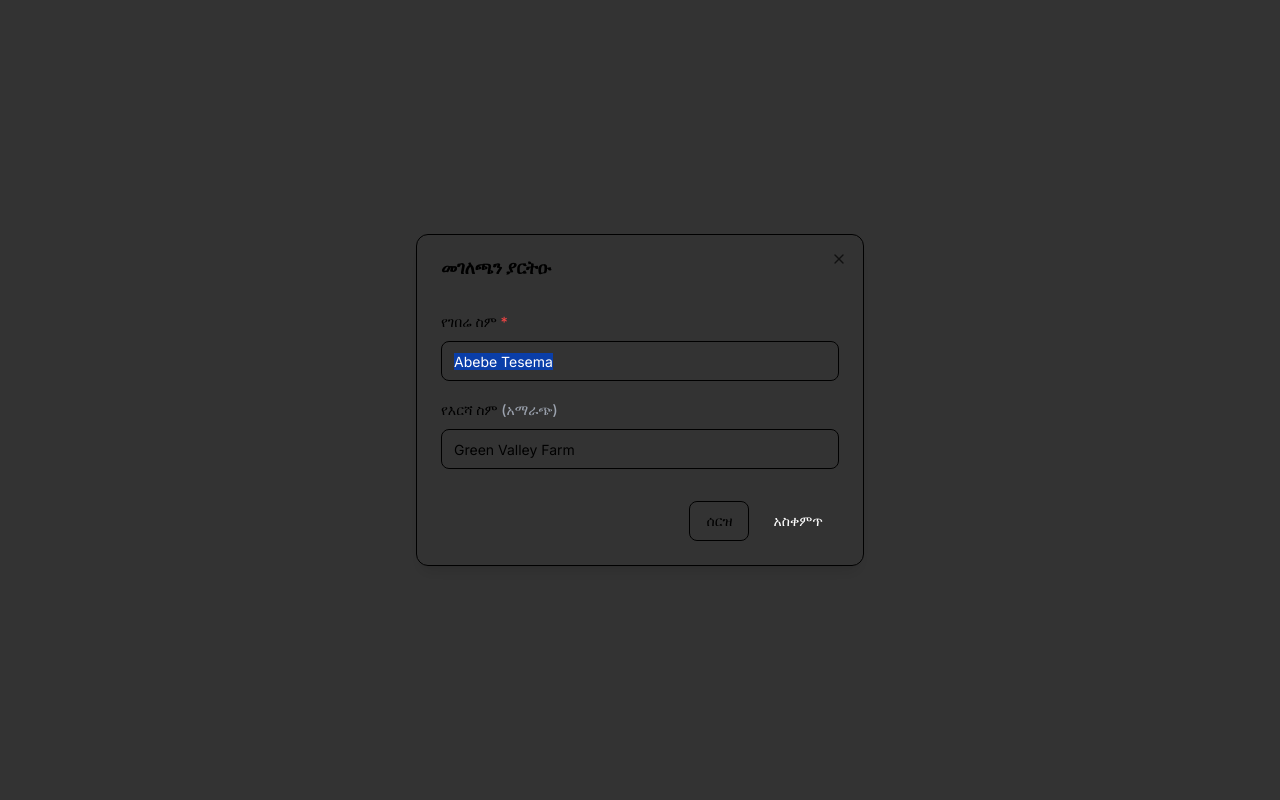
Scenario: EditProfileModal › validates empty farmer name
The width and height of the screenshot is (1280, 800).
# Clear farmer name
Clear the field with placeholder "ስም እና የአባት ስም" at (640, 361), box [441,341,839,381]
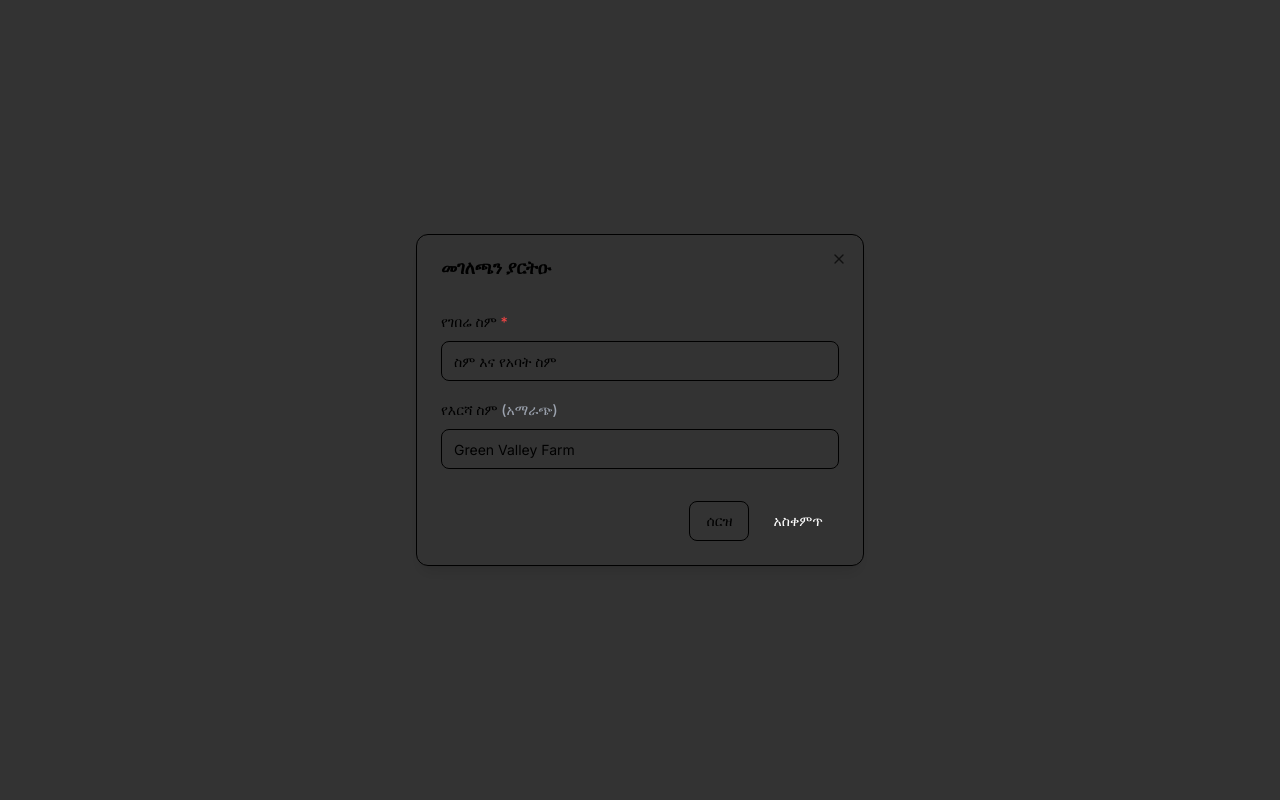
Click the button "አስቀምጥ" at (798, 521), box [758,501,839,541]
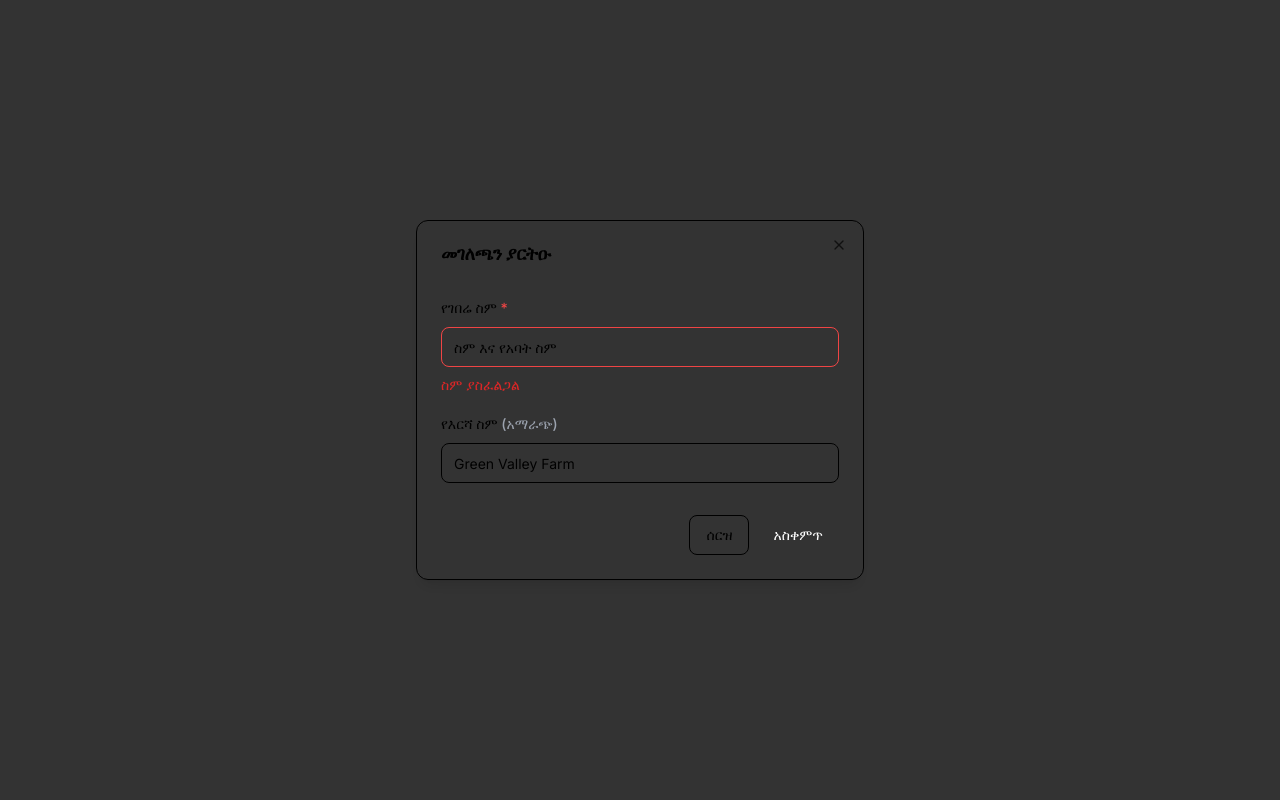
Now the text "ስም ያስፈልጋል" is shown, box [441,376,520,393]
